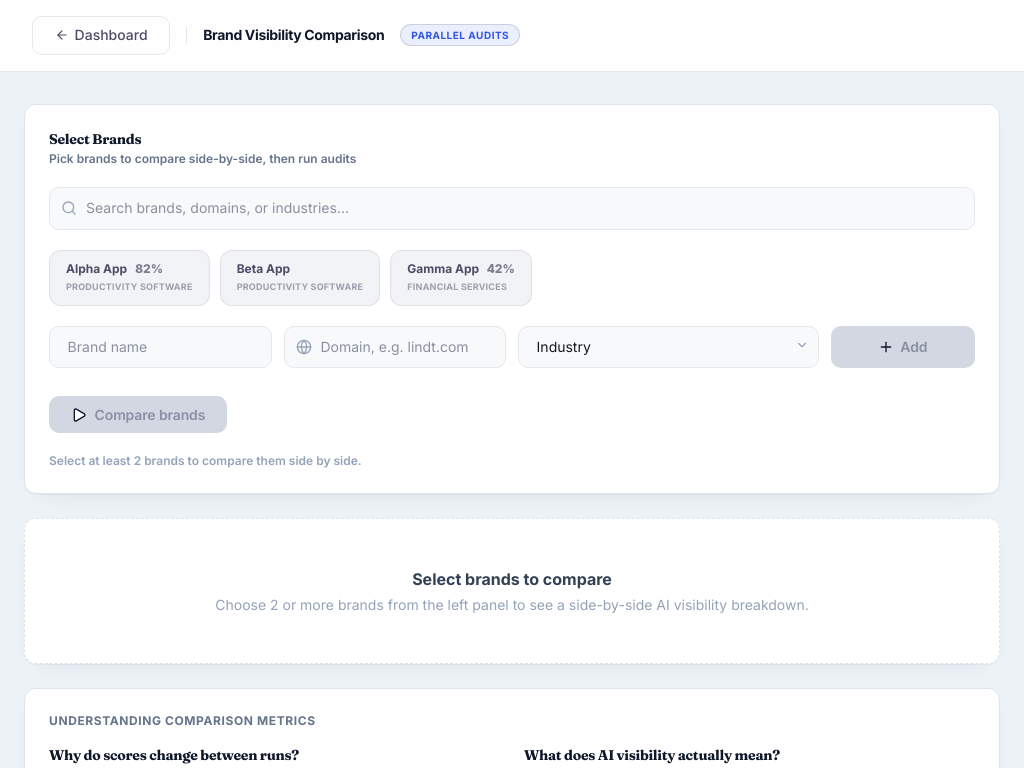
it: Multi-Brand Comparison Page Component › blocks a comparison across buyer categories
The width and height of the screenshot is (1024, 768).
Expected: the text "Alpha App" is shown, [66, 261, 127, 276]
Click the button "Alpha App 82% Productivity software". click: x=129, y=278
box: [49, 250, 210, 306]
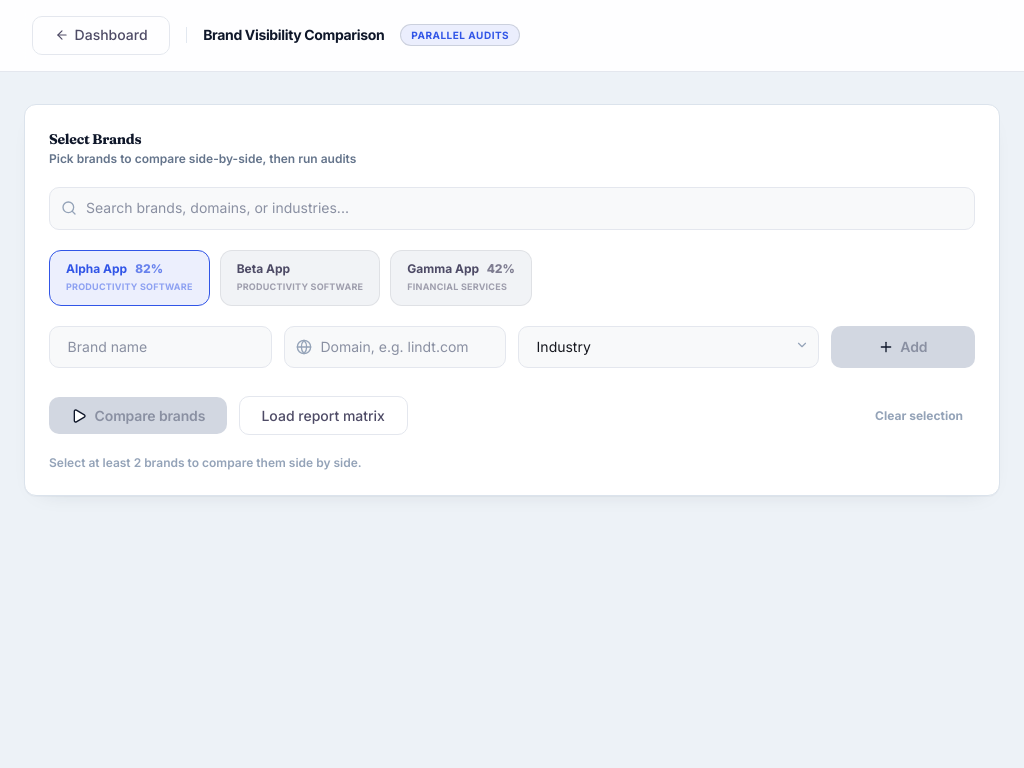
Click the button "Gamma App 42% Financial services". click: x=461, y=278
box: [390, 250, 532, 306]
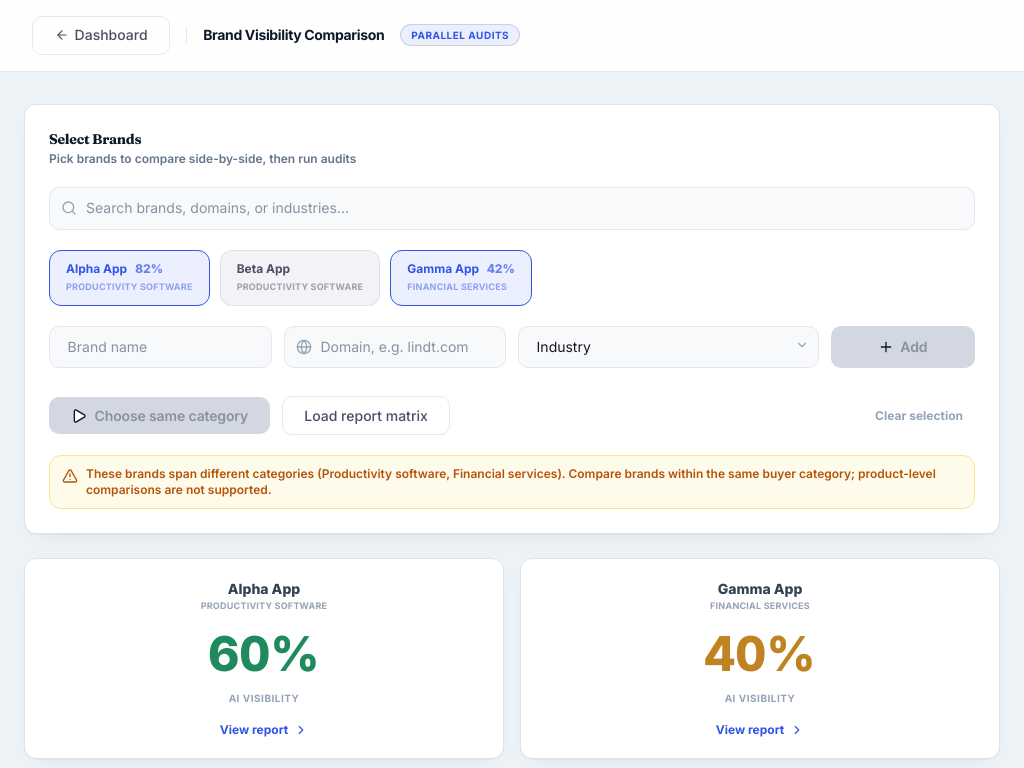
Expected: the button "Choose same category" is disabled, [49, 397, 270, 434]
Expected: the text "Compare brands within the same buyer category" is shown, [86, 466, 936, 497]
